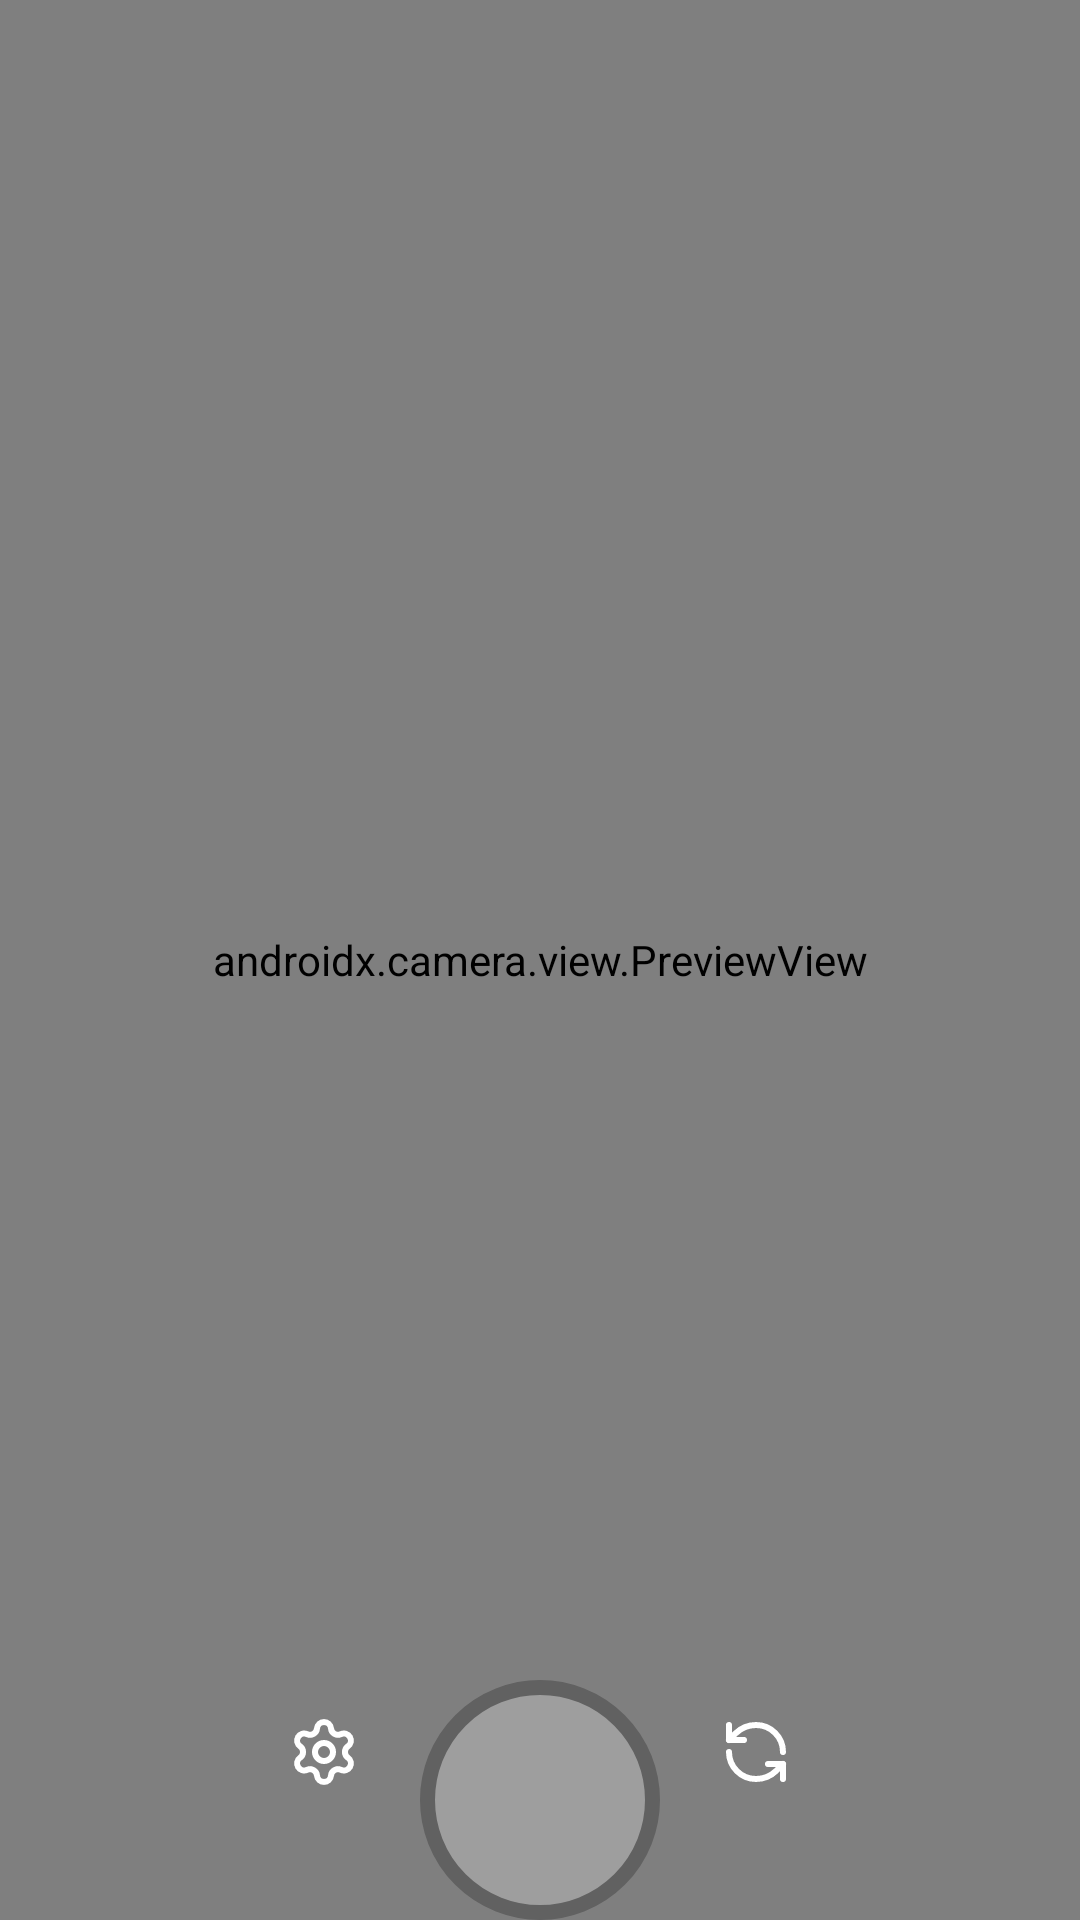

Named icons in this screenshot (1080 × 1920) and their centers, [x,y]:
GIF Settings: [324,1752]
Record: [540,1800]
Switch camera: [756,1752]
